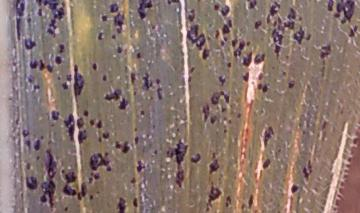tarspot: (166, 138, 189, 188), (36, 1, 67, 38), (40, 148, 57, 213), (270, 6, 297, 46), (185, 23, 206, 50), (333, 1, 356, 25), (206, 181, 223, 213), (13, 1, 26, 42), (89, 151, 112, 173), (72, 63, 85, 99), (61, 170, 79, 196), (63, 113, 77, 142), (110, 13, 126, 37), (210, 88, 231, 106), (292, 24, 306, 48), (261, 126, 275, 149), (136, 1, 152, 20), (301, 159, 314, 182), (318, 42, 331, 61), (141, 71, 153, 91), (104, 88, 122, 101), (24, 175, 38, 191), (268, 1, 281, 17), (116, 196, 128, 213), (188, 151, 202, 165), (346, 24, 359, 39), (207, 159, 220, 174), (75, 130, 88, 145), (241, 51, 253, 67), (23, 38, 37, 51), (253, 52, 266, 65), (117, 97, 129, 111), (77, 182, 86, 200), (201, 104, 209, 123), (108, 2, 120, 14), (135, 159, 146, 172), (242, 70, 252, 84), (75, 116, 85, 130), (186, 8, 196, 22), (121, 141, 131, 155), (221, 23, 231, 37), (273, 44, 281, 61), (23, 137, 32, 152), (219, 5, 230, 17), (28, 58, 39, 70), (156, 86, 164, 101), (38, 58, 46, 73), (217, 74, 227, 86), (129, 72, 138, 85), (50, 109, 60, 120), (262, 158, 271, 170), (246, 1, 258, 10), (226, 16, 235, 28), (247, 193, 254, 208), (224, 195, 232, 208), (33, 139, 41, 152), (202, 48, 210, 61), (27, 72, 35, 85), (21, 127, 31, 137), (209, 115, 218, 126), (96, 30, 105, 41), (57, 43, 66, 54), (95, 118, 104, 129), (230, 38, 239, 49), (320, 120, 329, 131), (115, 45, 124, 55), (253, 20, 262, 30), (290, 184, 298, 195), (287, 79, 295, 90), (326, 1, 334, 12), (54, 55, 62, 66), (132, 196, 139, 208), (257, 71, 264, 83), (213, 28, 220, 40), (265, 13, 271, 27), (60, 82, 69, 91), (45, 64, 54, 73), (100, 14, 108, 24), (133, 135, 140, 146), (238, 38, 245, 49), (101, 131, 110, 139), (25, 160, 31, 172), (32, 83, 41, 91), (26, 12, 32, 24), (188, 65, 196, 74), (91, 61, 98, 71), (36, 7, 43, 17), (87, 175, 94, 185), (306, 31, 312, 42), (82, 109, 90, 117), (88, 119, 96, 127), (65, 73, 72, 82), (261, 84, 268, 93), (135, 51, 142, 60), (110, 33, 117, 42), (93, 172, 100, 181), (114, 140, 121, 149), (35, 153, 42, 162), (235, 112, 242, 121), (220, 105, 227, 114), (152, 148, 159, 156), (129, 176, 136, 184), (212, 4, 220, 11), (167, 1, 181, 5), (154, 78, 162, 85), (101, 73, 107, 82), (256, 82, 262, 91), (187, 75, 193, 84), (297, 14, 303, 23), (139, 109, 146, 116), (63, 206, 70, 213), (211, 151, 216, 160), (151, 122, 156, 131), (88, 194, 94, 201), (226, 61, 232, 68), (219, 40, 225, 47), (150, 24, 157, 30), (222, 128, 228, 135), (174, 127, 181, 133), (56, 75, 62, 82), (60, 168, 66, 174), (227, 118, 233, 124), (237, 50, 242, 57), (246, 40, 250, 48), (233, 49, 237, 57), (133, 127, 138, 133)
